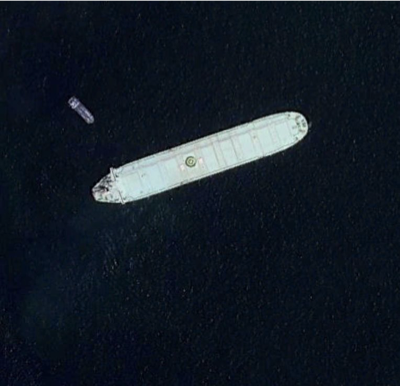boat: (92, 110, 310, 205), (67, 95, 96, 125)
